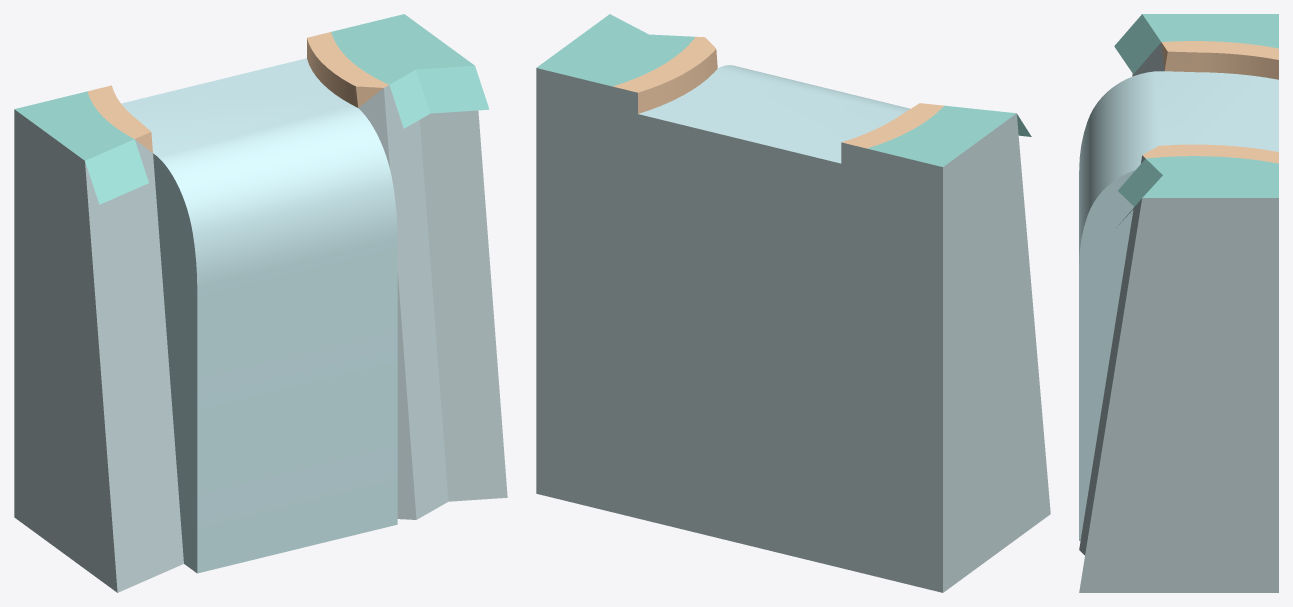
Rendered from cliffGrey_waterfallTop.glb.
The picture shows the model from 3 angles, left to right: view 1: azimuth 30°, elevation 25°; view 2: azimuth 150°, elevation 25°; view 3: azimuth 270°, elevation 25°; orthographic projection. The views are drawn at different scales.
Parts seen in each view (by area): view 1: cliffGrey_waterfallTop; view 2: cliffGrey_waterfallTop; view 3: cliffGrey_waterfallTop.
Boxes of the visible parts, x1=… form: cliffGrey_waterfallTop: x1=14, y1=14, x2=507, y2=592; cliffGrey_waterfallTop: x1=536, y1=14, x2=1050, y2=592; cliffGrey_waterfallTop: x1=1079, y1=14, x2=1278, y2=592.
Size of the model in its own units: 1 by 1 by 0.4584.
